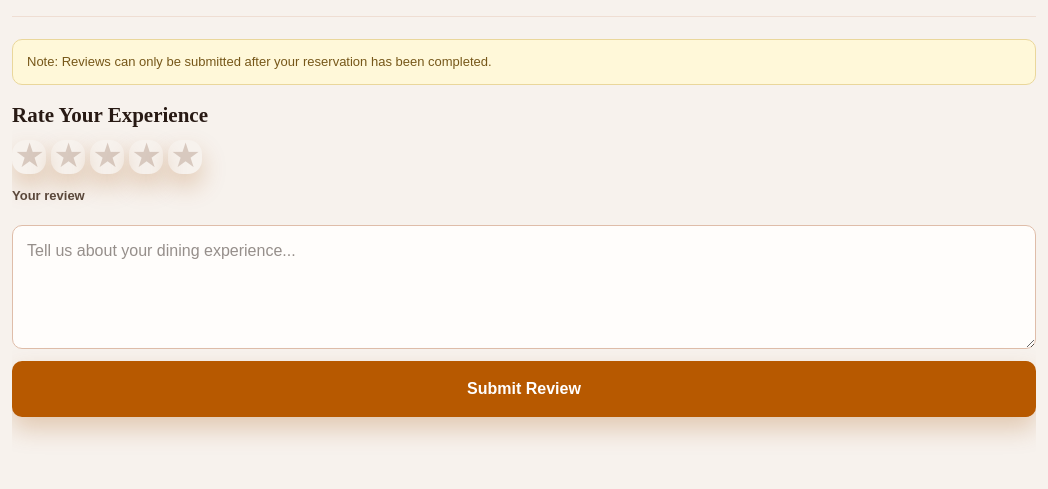
Scenario: validates an empty rating and an empty comment
Type "A written review" into the text box labelled "Your review".
click(524, 287); type("A written review")  # box [12,225,1036,349]
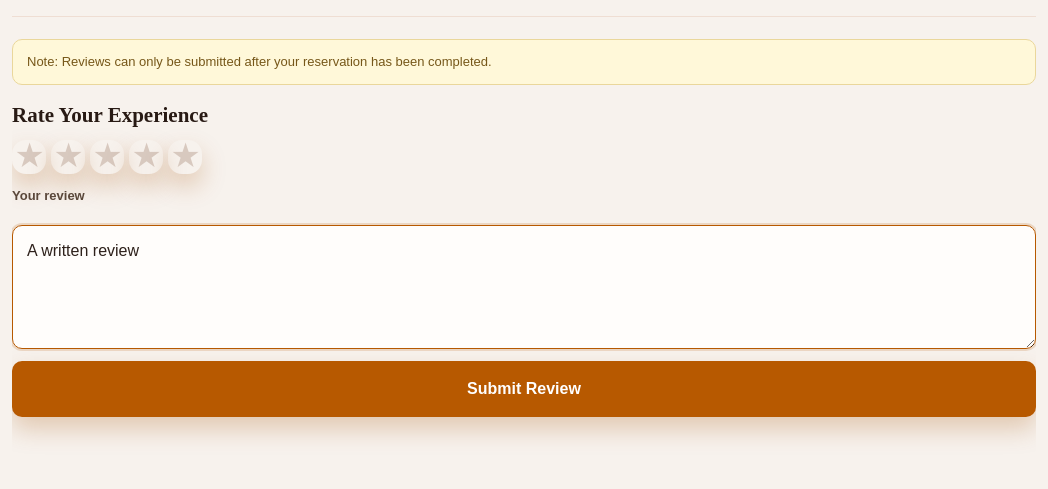
Click the button "Submit Review".
click(524, 389)  # box [12,361,1036,417]
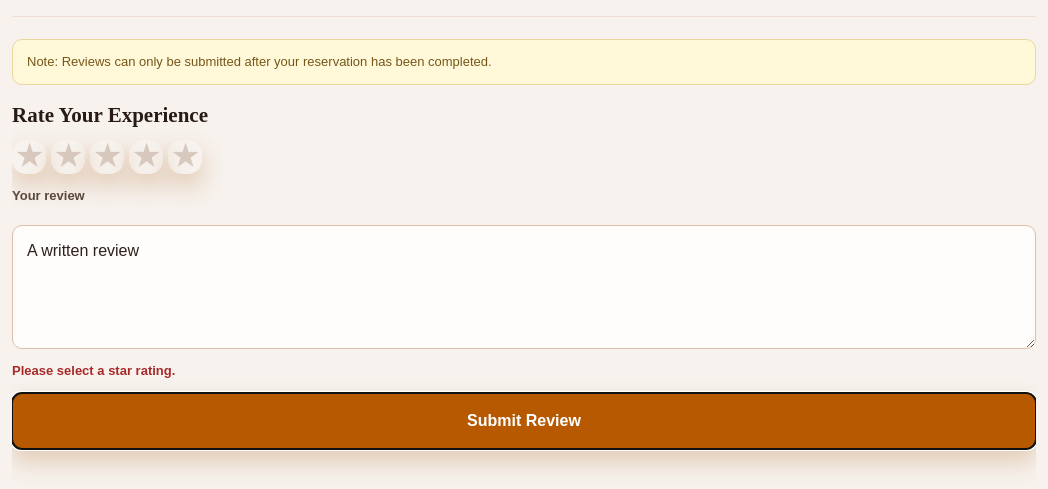
Check: the message reads "Please select a star rating.", box [12,363,175,378]
Click the button named "Rate 5 stars".
click(185, 156)  # box [168,140,202,174]
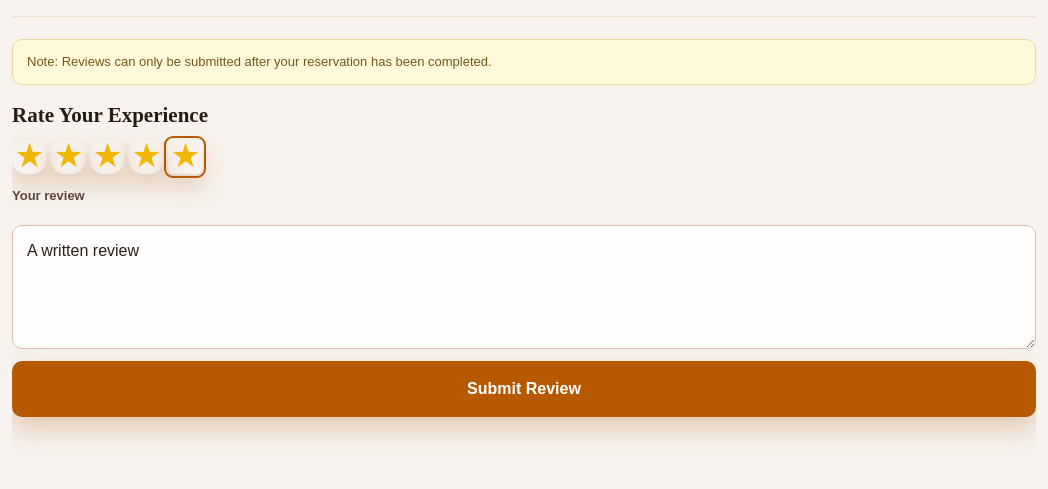
Clear the text box labelled "Your review" at [524, 287], box [12,225,1036,349]
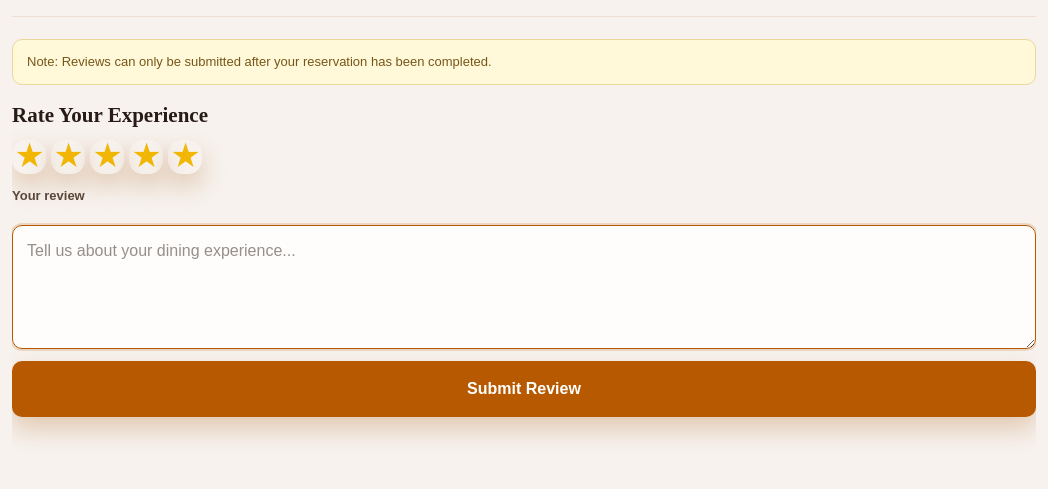
Click the button "Submit Review".
click(524, 389)  # box [12,361,1036,417]
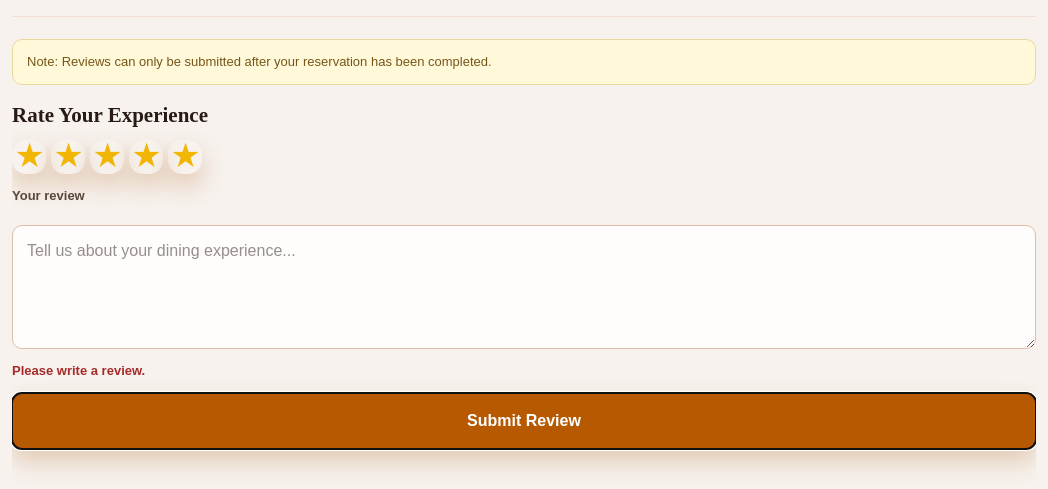
Check: the message reads "Please write a review.", box [12,363,145,378]
